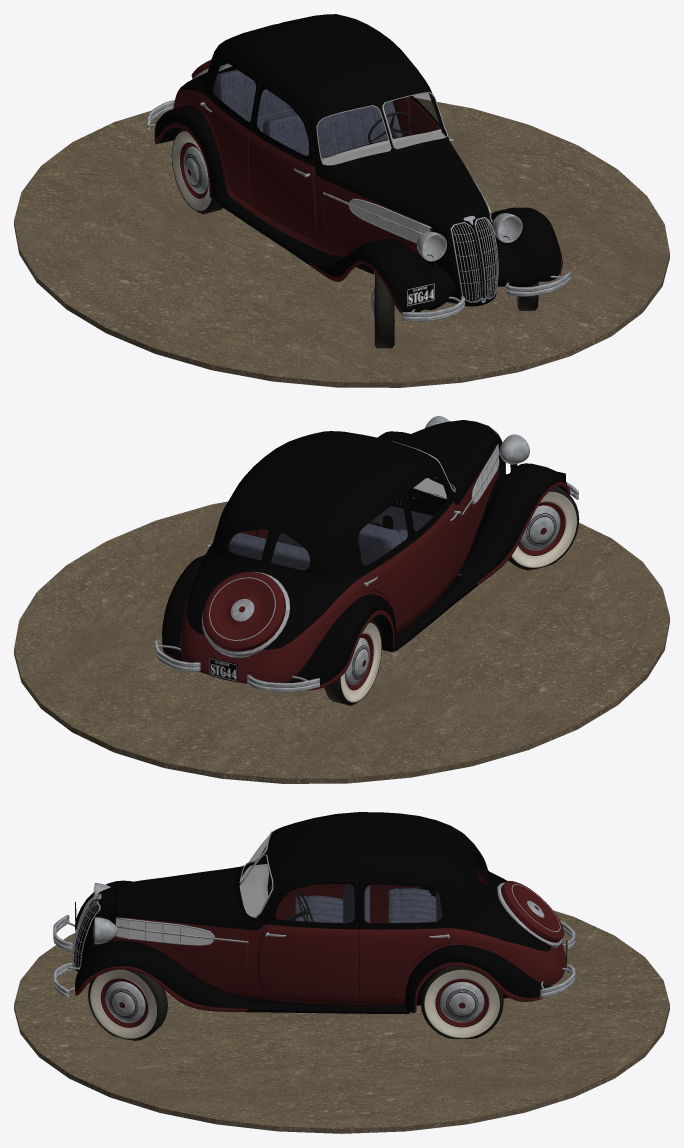
The model's file is BMW Salon Car.gltf.
The picture shows the model from 3 angles, top to bottom: view 1: azimuth 30°, elevation 25°; view 2: azimuth 150°, elevation 25°; view 3: azimuth 270°, elevation 25°; orthographic projection. The views are drawn at different scales.
Visible parts, largest first — view 1: Circle, Cube.013; view 2: Circle, Cube.013; view 3: Cube.013, Circle.
Part boxes in pixels (left/top/right/bottom): Circle: left=14, top=98, right=669, bottom=387; Cube.013: left=147, top=14, right=571, bottom=348; Circle: left=14, top=501, right=669, bottom=783; Cube.013: left=154, top=416, right=579, bottom=705; Cube.013: left=53, top=812, right=575, bottom=1040; Circle: left=14, top=910, right=669, bottom=1133.
Size of the model in its own units: 6.31 by 2.07 by 7.04.
